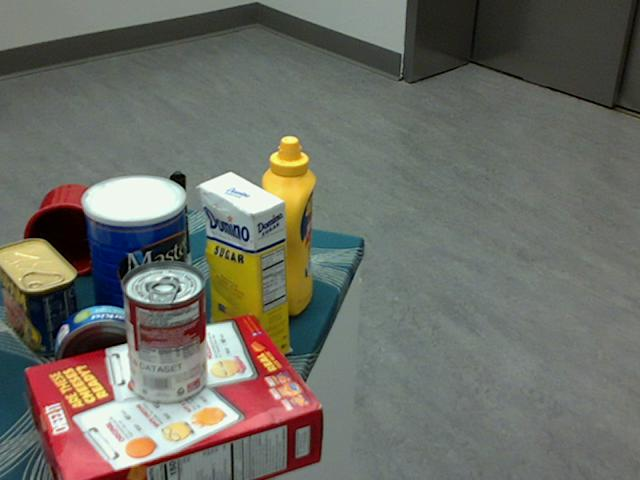cracker_box: (27, 315, 323, 479)
large_marker: (170, 170, 190, 266)
master_chef_can: (80, 175, 189, 338)
mug: (18, 184, 108, 277)
mustard_bottle: (259, 135, 315, 315)
potted_meat_can: (0, 237, 81, 355)
sugar_box: (199, 170, 289, 366)
tomato_soup_can: (120, 262, 205, 404)
tuna_fish_can: (55, 305, 150, 398)
